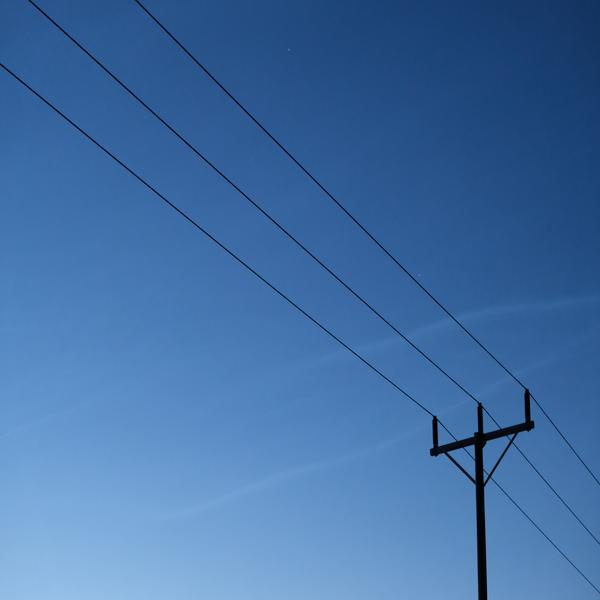utility_pole: (424, 380, 544, 508)
